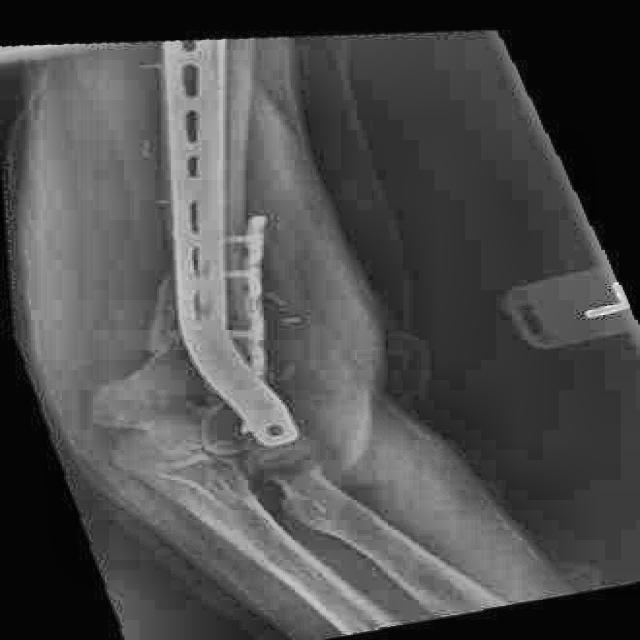elbow positive: (62, 365, 187, 462), (108, 292, 197, 378)
